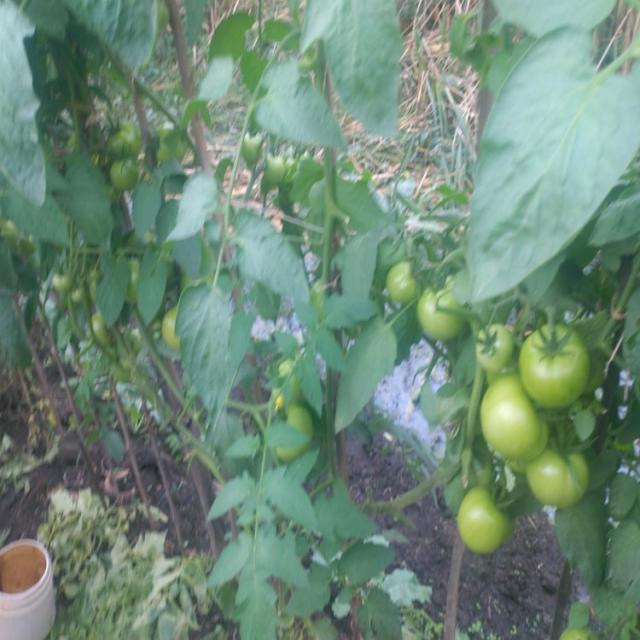tomato: (519, 325, 592, 412), (529, 450, 590, 513), (457, 485, 510, 557), (479, 378, 519, 470), (423, 291, 468, 343), (277, 402, 315, 458), (473, 322, 515, 369), (389, 263, 420, 307), (163, 305, 191, 348), (268, 160, 303, 191), (111, 158, 143, 191), (109, 121, 140, 155), (158, 131, 189, 165), (128, 261, 149, 299), (276, 367, 305, 394), (239, 132, 264, 162), (94, 316, 113, 347), (88, 266, 106, 295), (56, 267, 74, 289), (72, 290, 85, 308)
